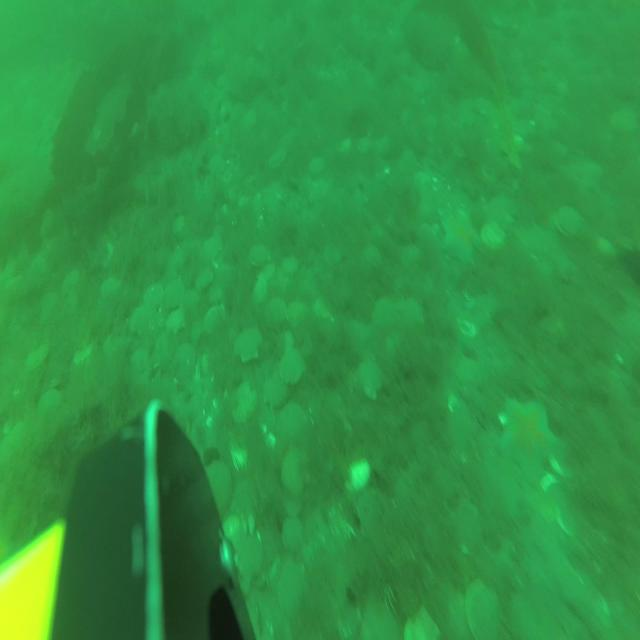scallop: (466, 574, 501, 640), (202, 458, 233, 520), (358, 595, 400, 640), (454, 499, 486, 557), (277, 562, 308, 614), (280, 447, 310, 498), (261, 369, 295, 411), (402, 603, 440, 640), (355, 359, 384, 403), (341, 454, 374, 492), (553, 199, 582, 242), (235, 535, 262, 578), (280, 399, 308, 440), (232, 378, 256, 424), (608, 104, 638, 138), (234, 327, 262, 363), (279, 348, 306, 384), (374, 297, 400, 334), (36, 387, 63, 421), (400, 297, 426, 332), (281, 514, 304, 552), (22, 343, 52, 372), (481, 220, 507, 252), (39, 290, 60, 328), (103, 328, 129, 358), (264, 295, 288, 327), (322, 238, 346, 268), (360, 242, 383, 273), (204, 303, 227, 333), (164, 277, 186, 308), (142, 282, 164, 312), (282, 490, 306, 517), (287, 300, 310, 328), (176, 342, 198, 371), (400, 240, 421, 270), (308, 176, 330, 204), (248, 242, 272, 267), (129, 307, 149, 336), (398, 145, 416, 177), (60, 268, 80, 296), (130, 347, 150, 374), (72, 342, 95, 365), (100, 276, 122, 300), (194, 267, 214, 293), (167, 309, 186, 335), (208, 154, 228, 178), (252, 277, 268, 306), (266, 149, 288, 170), (314, 296, 332, 321), (282, 252, 298, 279), (354, 132, 372, 155), (256, 260, 276, 280), (308, 154, 326, 175), (338, 134, 352, 155), (172, 215, 185, 235)
starfish: (494, 389, 564, 486), (440, 207, 480, 267)
